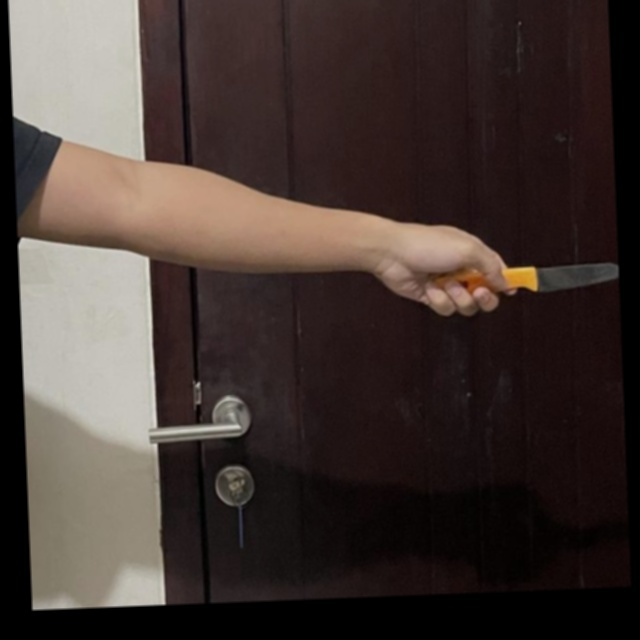Sharp-Object: (421, 259, 619, 300)
